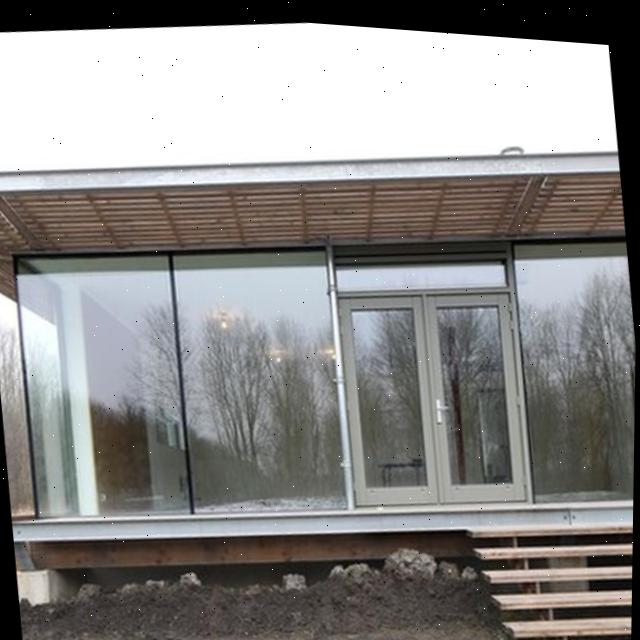building: (0, 102, 638, 637)
